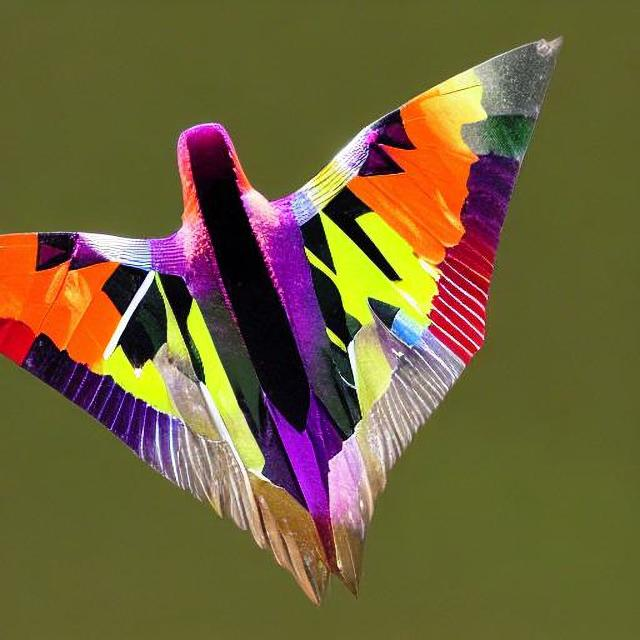floating object: (29, 50, 570, 600)
